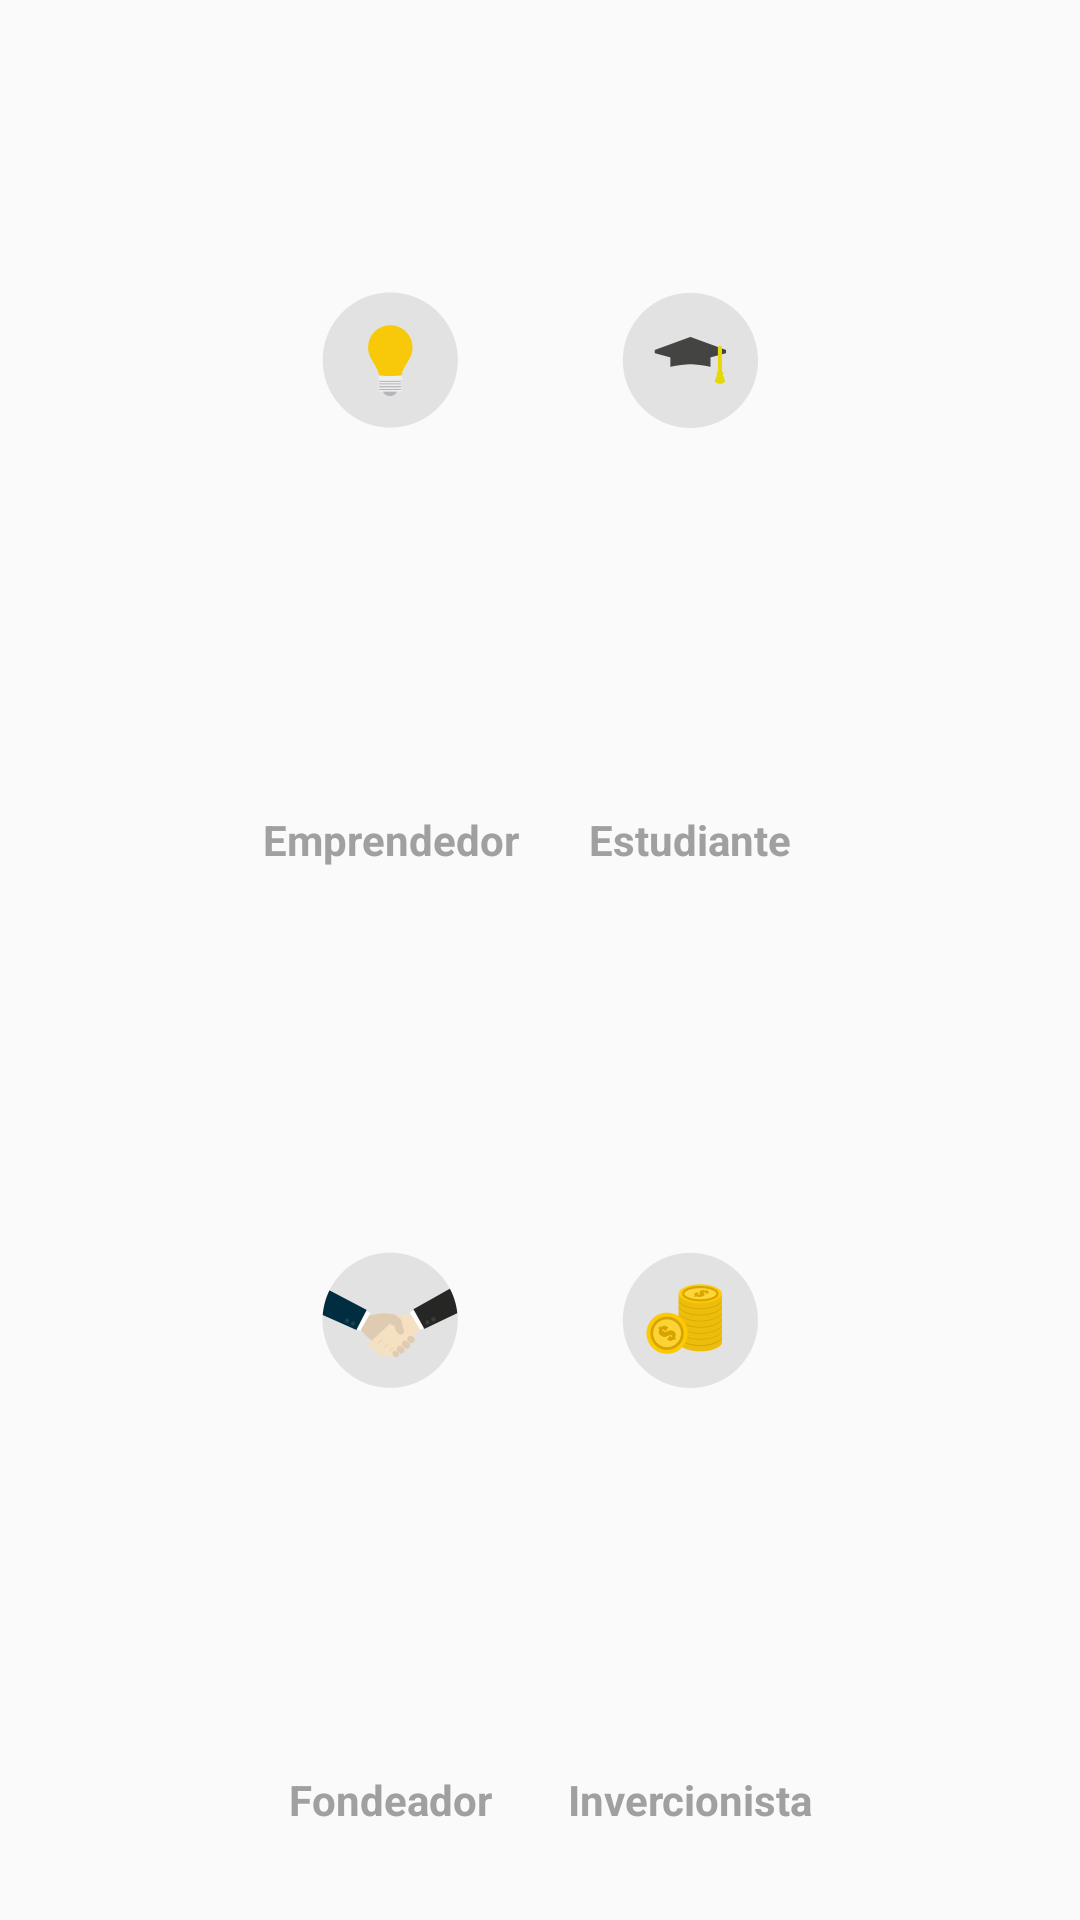

Icons on this 1080px×1920px Android screen, each with its box as rect(x1, y1, x2, y2):
inversionista: rect(646, 1284, 722, 1354)
